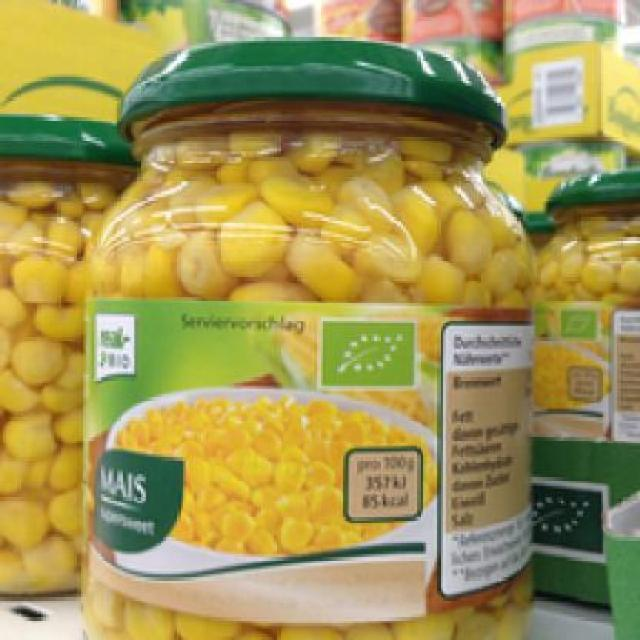Corn: (76, 35, 532, 634)
